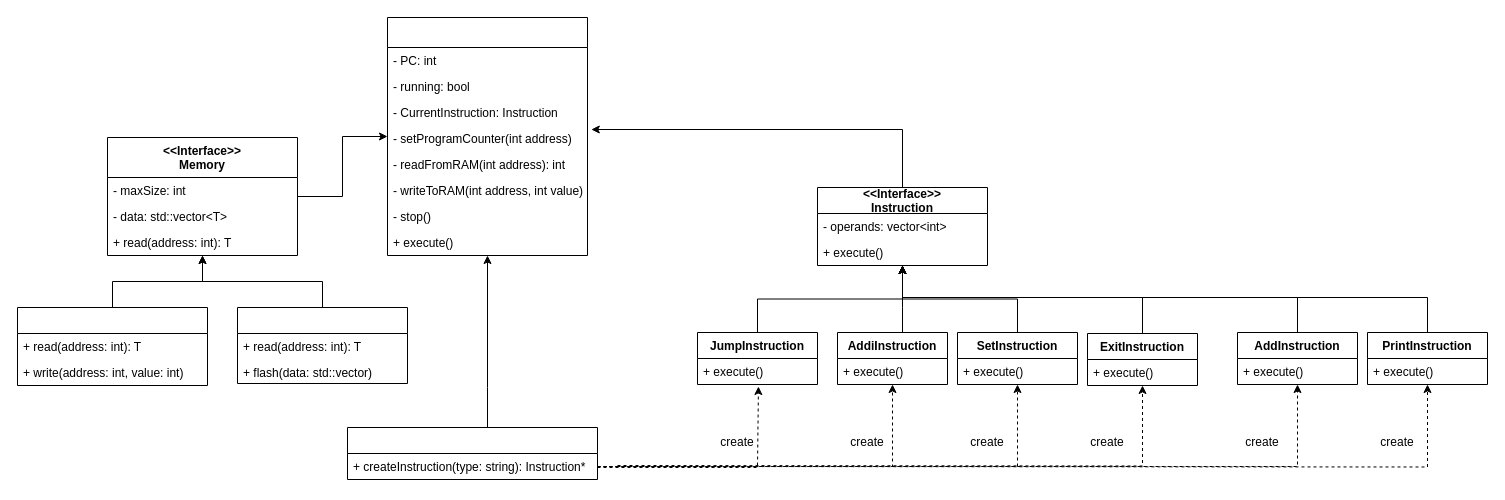
This 1505x500 diagram has some shape labels left out. Each missing label, with the box of its shape:
CPU: (386, 16, 588, 256)
InstructionFactory: (346, 426, 598, 480)
RAM: (16, 306, 208, 386)
ROM: (236, 306, 408, 384)
